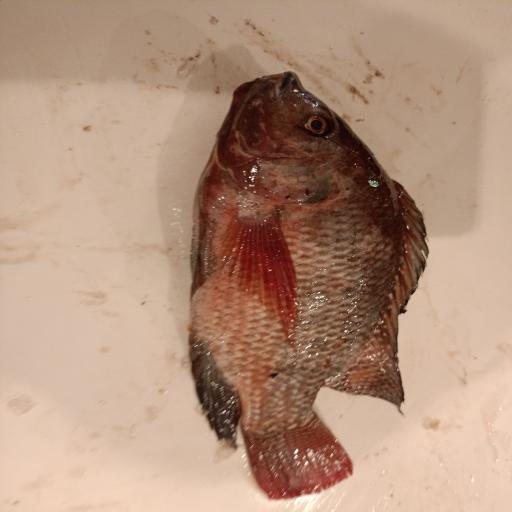Tilapia: (189, 71, 430, 501)
